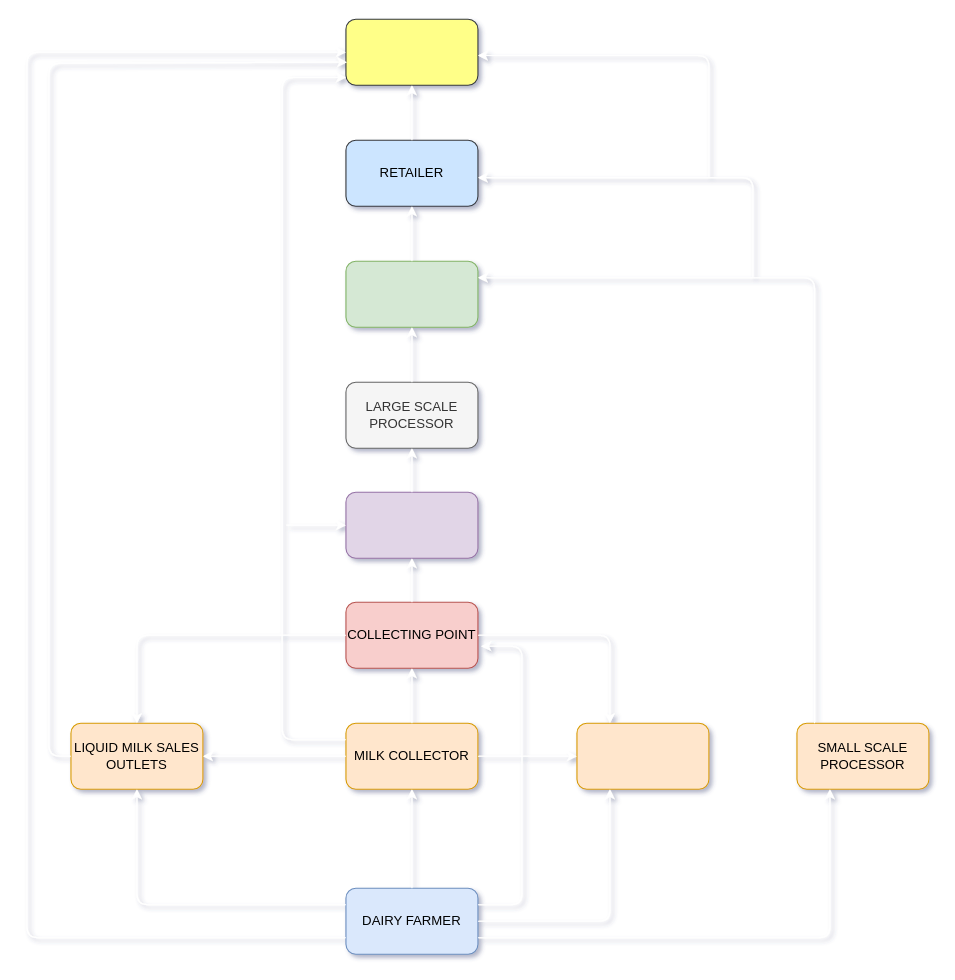
Image size: 955x980. Some labels were removed from this diagram. Each missing label, with the centre of its shape:
CHILLING CENTRE: pixel 411 524
CONSUMER: pixel 411 51
HOTELS & RESTAURANTS: pixel 642 755
WHOLESALER: pixel 411 293
